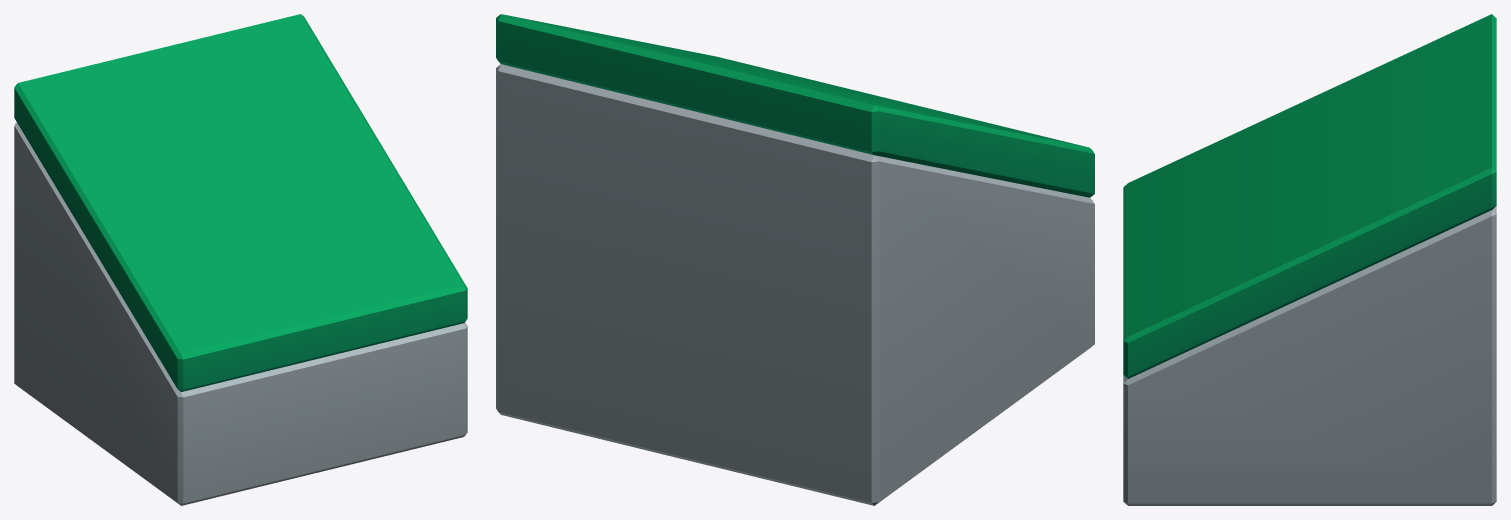
File: platform_slope_4x4x4_green.glb
The picture shows the model from 3 angles, left to right: view 1: azimuth 30°, elevation 25°; view 2: azimuth 150°, elevation 25°; view 3: azimuth 270°, elevation 25°; orthographic projection. The views are drawn at different scales.
Visible parts, largest first — view 1: platform_slope_4x4x4_green; view 2: platform_slope_4x4x4_green; view 3: platform_slope_4x4x4_green.
Boxes of the visible parts, x1,y1,x2,y2 form: platform_slope_4x4x4_green: [14, 14, 467, 505]; platform_slope_4x4x4_green: [496, 14, 1094, 505]; platform_slope_4x4x4_green: [1123, 14, 1496, 505].
Bounding box in the file's own units: 4 × 4 × 4.
Materials: 1 (1 with a texture image).
